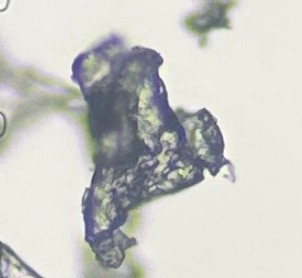microplastic: (71, 35, 236, 269), (1, 50, 146, 277), (182, 1, 240, 50), (1, 241, 45, 278)
